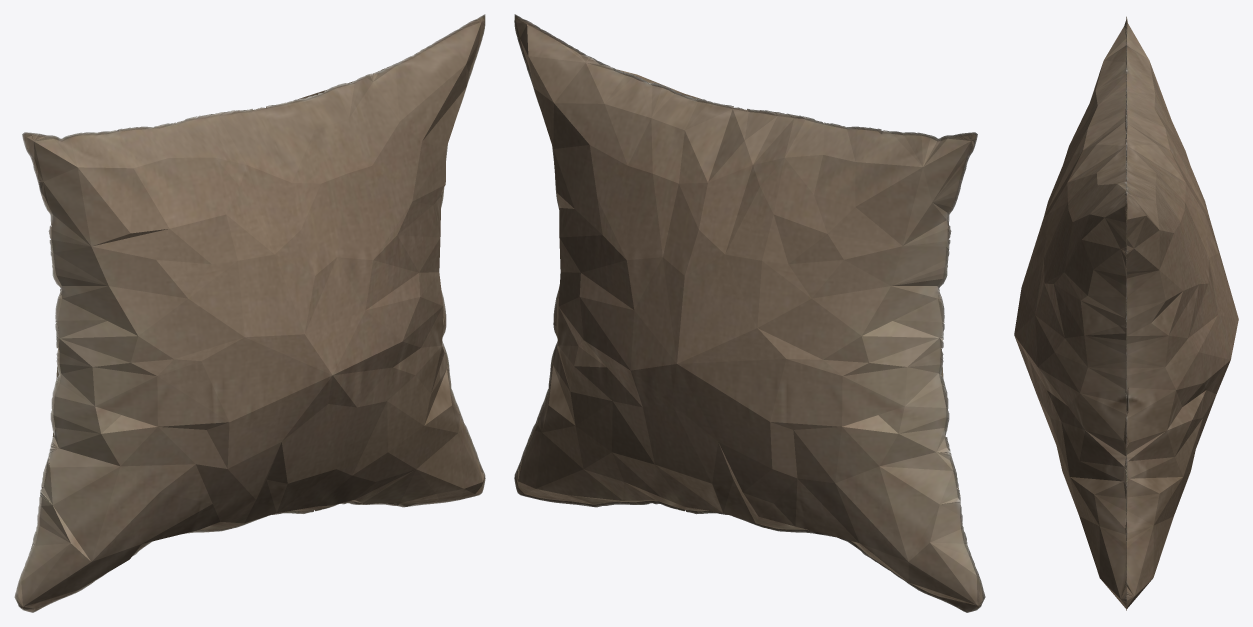
3 renders of one model, left to right at view 1: azimuth 30°, elevation 25°; view 2: azimuth 150°, elevation 25°; view 3: azimuth 270°, elevation 25°, orthographic. The views are drawn at different scales.
Visible parts, largest first — view 1: Object_0; view 2: Object_0; view 3: Object_0.
Boxes of the visible parts, x1,y1,x2,y2 form: Object_0: (14,14,485,612); Object_0: (514,14,985,612); Object_0: (1014,16,1238,610).
Bounding box in the file's own units: 98.91 × 98.02 × 47.47.
